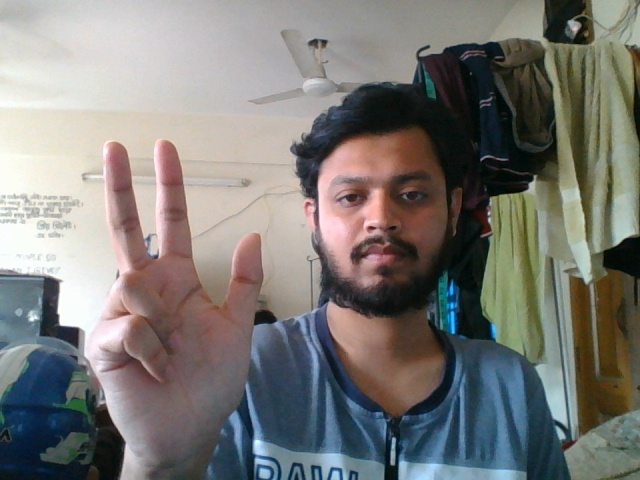da: (79, 131, 272, 480)
